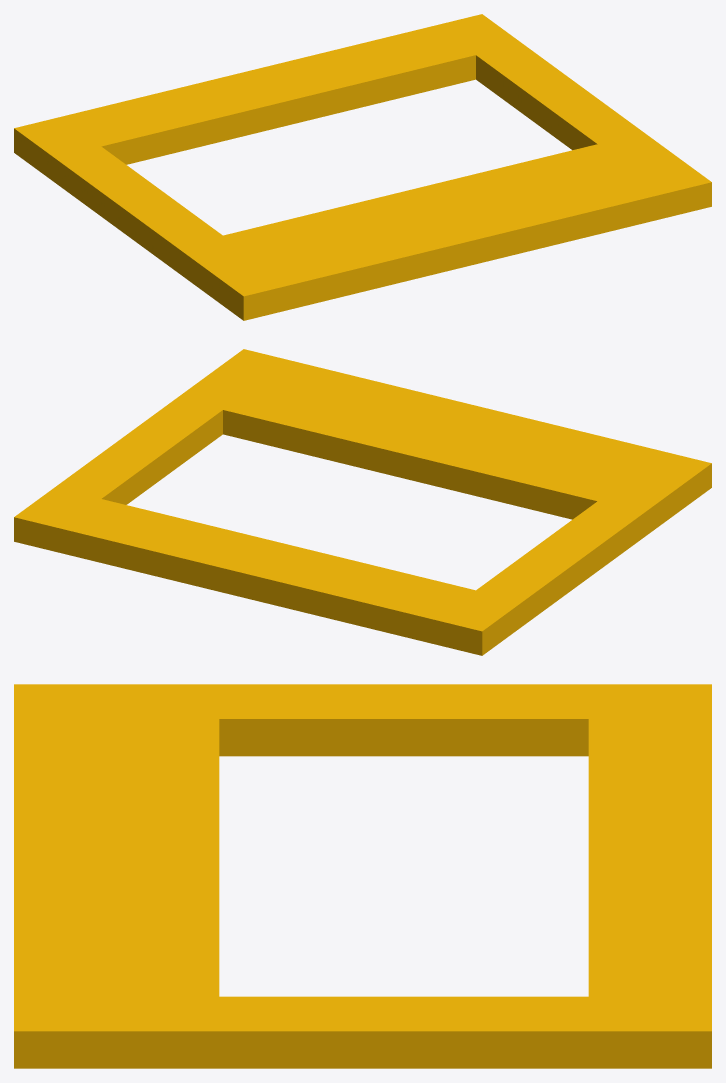
3 views of the same model, one above another, from view 1: azimuth 30°, elevation 25°; view 2: azimuth 150°, elevation 25°; view 3: azimuth 270°, elevation 25° (orthographic). The views are drawn at different scales.
Parts seen in each view (by area): view 1: 10.1; view 2: 10.1; view 3: 10.1.
Part boxes in pixels (box(x1,y1,x2,y2)): 10.1: box(14, 14, 711, 320); 10.1: box(14, 349, 711, 655); 10.1: box(14, 684, 711, 1068).
Size of the model in its own units: 200 by 10 by 170.
1 material, 1 textured.
